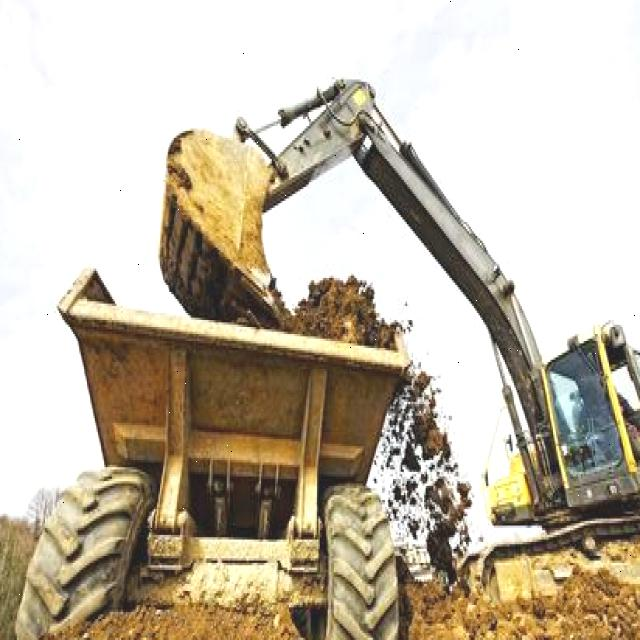Excavator: (158, 40, 640, 612)
